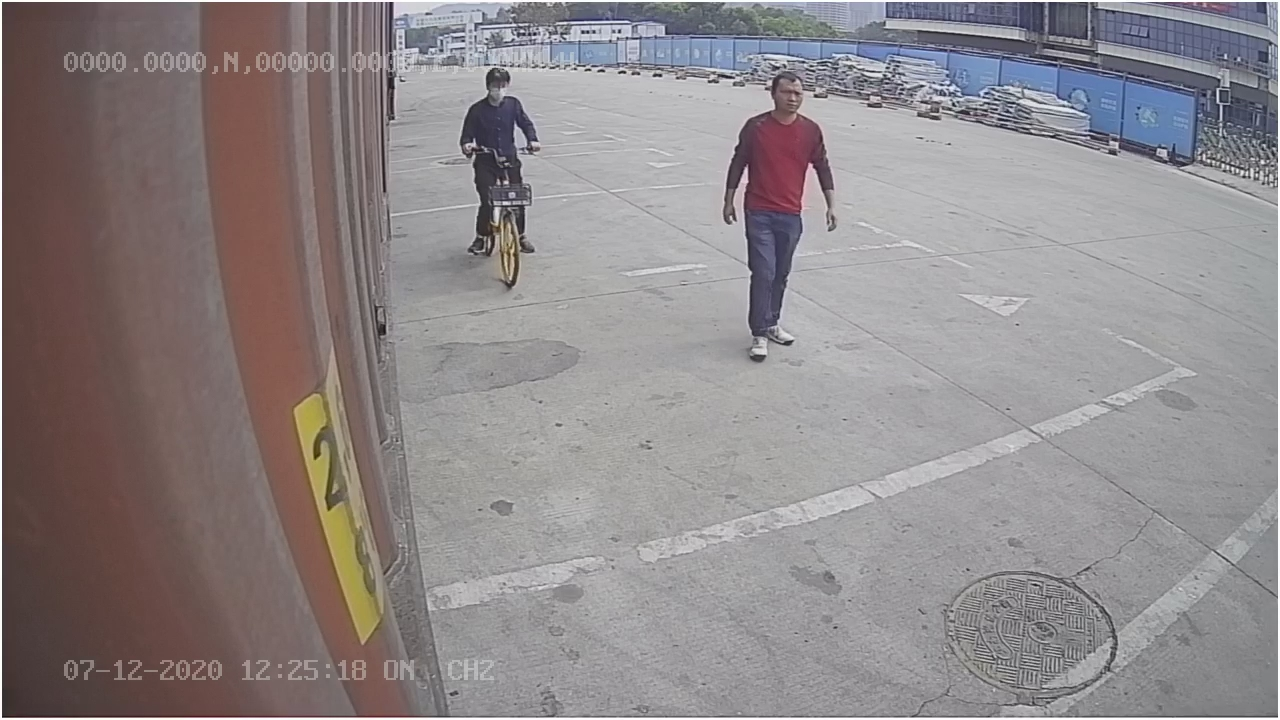person: (720, 67, 842, 367)
